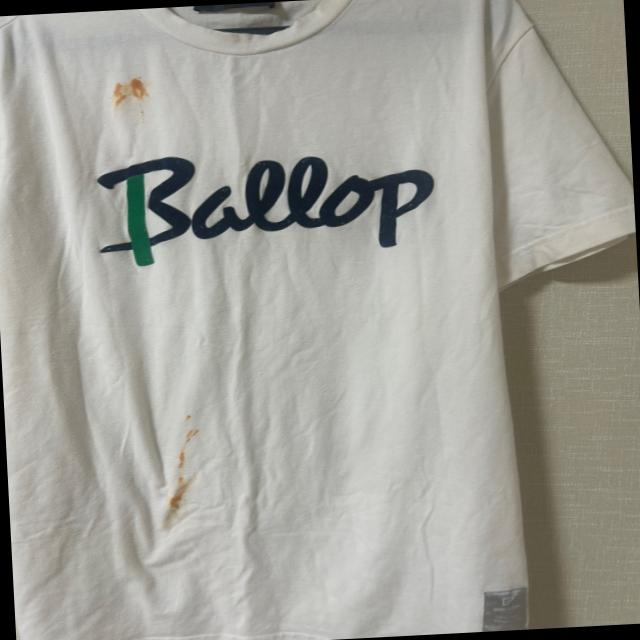stain: (108, 66, 150, 109), (174, 427, 198, 468), (170, 476, 197, 510), (180, 407, 193, 421)
